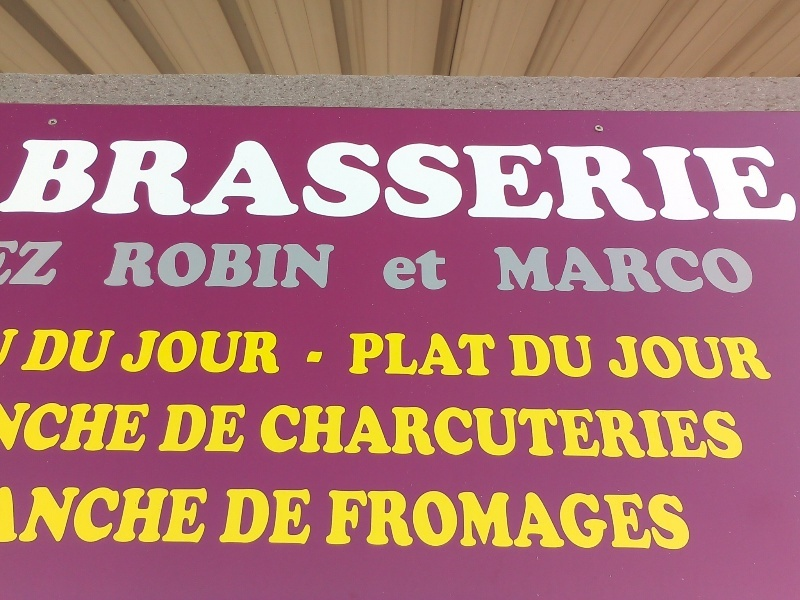text: (33, 137, 48, 226), (49, 137, 64, 226), (65, 137, 80, 226), (81, 137, 96, 226), (97, 137, 112, 226), (113, 137, 128, 226), (129, 137, 144, 226), (145, 137, 160, 226), (161, 137, 176, 226), (177, 137, 192, 226), (193, 137, 208, 226), (209, 137, 224, 226), (225, 137, 240, 226), (241, 137, 256, 226), (257, 137, 272, 226), (273, 137, 288, 226), (289, 137, 304, 226), (305, 137, 320, 226), (321, 137, 336, 226), (337, 137, 352, 226), (353, 137, 368, 226), (369, 137, 384, 226), (385, 137, 400, 226), (401, 137, 416, 226), (417, 137, 432, 226), (433, 137, 448, 226), (449, 137, 464, 226), (465, 137, 480, 226), (481, 137, 496, 226), (497, 137, 512, 226), (513, 137, 528, 226), (529, 137, 544, 226), (545, 137, 560, 226), (561, 137, 576, 226), (577, 137, 592, 226), (593, 137, 608, 226), (609, 137, 624, 226), (625, 137, 640, 226), (641, 137, 656, 226), (657, 137, 672, 226), (673, 137, 688, 226), (689, 137, 704, 226), (705, 137, 720, 226), (721, 137, 736, 226), (737, 137, 752, 226), (753, 137, 768, 226), (769, 137, 784, 226), (785, 137, 800, 226), (337, 484, 352, 552), (353, 484, 368, 552), (369, 484, 384, 552), (385, 484, 400, 552), (401, 484, 416, 552), (417, 484, 432, 552), (433, 484, 448, 552), (449, 484, 464, 552), (465, 484, 480, 552), (481, 484, 496, 552), (497, 484, 512, 552), (513, 484, 528, 552), (529, 484, 544, 552), (545, 484, 560, 552), (561, 484, 576, 552), (577, 484, 592, 552), (593, 484, 608, 552), (609, 484, 624, 552), (625, 484, 640, 552), (641, 484, 656, 552), (657, 484, 672, 552), (673, 484, 688, 552), (17, 485, 32, 548), (33, 485, 48, 548), (49, 485, 64, 548), (65, 485, 80, 548), (81, 485, 96, 548), (97, 485, 112, 548), (113, 485, 128, 548), (129, 485, 144, 548), (145, 485, 160, 548), (161, 485, 176, 548), (177, 485, 192, 548), (193, 485, 208, 548), (273, 402, 288, 461), (289, 402, 304, 461), (305, 402, 320, 461), (321, 402, 336, 461), (337, 402, 352, 461), (353, 402, 368, 461), (369, 402, 384, 461), (385, 402, 400, 461), (401, 402, 416, 461), (417, 402, 432, 461), (433, 402, 448, 461), (449, 402, 464, 461), (465, 402, 480, 461), (481, 402, 496, 461), (497, 402, 512, 461), (513, 402, 528, 461), (529, 402, 544, 461), (545, 402, 560, 461), (561, 402, 576, 461), (577, 402, 592, 461), (593, 402, 608, 461), (609, 402, 624, 461), (625, 402, 640, 461), (641, 402, 656, 461), (657, 402, 672, 461), (673, 402, 688, 461), (689, 402, 704, 461), (705, 402, 720, 461), (721, 402, 736, 461), (225, 486, 240, 545), (241, 486, 256, 545), (257, 486, 272, 545), (273, 486, 288, 545), (289, 486, 304, 545), (2, 485, 16, 548), (177, 400, 192, 456), (193, 400, 208, 456), (209, 400, 224, 456), (225, 400, 240, 456), (17, 399, 32, 454), (33, 399, 48, 454), (49, 399, 64, 454), (65, 399, 80, 454), (81, 399, 96, 454), (97, 399, 112, 454), (113, 399, 128, 454), (129, 399, 144, 454), (129, 238, 144, 292), (145, 238, 160, 292), (161, 238, 176, 292), (177, 238, 192, 292), (193, 238, 208, 292), (209, 238, 224, 292), (225, 238, 240, 292), (241, 238, 256, 292), (257, 238, 272, 292), (273, 238, 288, 292), (289, 238, 304, 292), (305, 238, 320, 292), (321, 238, 336, 292), (23, 137, 32, 226), (481, 331, 497, 381), (609, 333, 624, 384), (625, 333, 640, 384), (641, 333, 656, 384), (657, 333, 672, 384), (673, 333, 688, 384), (689, 333, 704, 384), (705, 333, 720, 384), (721, 333, 736, 384), (737, 333, 752, 384), (753, 333, 768, 384), (497, 245, 512, 296), (513, 245, 528, 296), (529, 245, 544, 296), (545, 245, 560, 296), (561, 245, 576, 296), (577, 245, 592, 296), (593, 245, 608, 296), (609, 245, 624, 296), (625, 245, 640, 296), (641, 245, 656, 296), (657, 245, 672, 296), (673, 245, 688, 296), (689, 245, 704, 296), (705, 245, 720, 296), (721, 245, 736, 296), (737, 245, 752, 296), (129, 326, 144, 377), (145, 326, 160, 377), (161, 326, 176, 377), (177, 326, 192, 377), (193, 326, 208, 377), (209, 326, 224, 377), (225, 326, 240, 377), (241, 326, 256, 377), (257, 326, 272, 377), (114, 238, 128, 292), (353, 331, 368, 381), (369, 331, 384, 381), (385, 331, 400, 381), (401, 331, 416, 381), (417, 331, 432, 381), (433, 331, 448, 381), (449, 331, 464, 381), (465, 331, 480, 381), (513, 332, 528, 381), (529, 332, 544, 381), (545, 332, 560, 381), (561, 332, 576, 381), (577, 332, 592, 381), (49, 328, 64, 376), (65, 328, 80, 376), (81, 328, 96, 376), (97, 328, 112, 376), (1, 240, 16, 288), (17, 240, 32, 288), (33, 240, 48, 288), (49, 240, 64, 288), (260, 402, 272, 461), (385, 247, 400, 293), (401, 247, 416, 293), (417, 247, 432, 293), (433, 247, 448, 293), (2, 324, 16, 373), (4, 399, 16, 454), (737, 402, 748, 461), (305, 486, 316, 545), (35, 328, 48, 376), (167, 400, 176, 456), (17, 324, 27, 373), (329, 484, 336, 552), (273, 326, 282, 377), (488, 245, 496, 296), (241, 400, 248, 456), (145, 399, 152, 454), (769, 333, 776, 384), (305, 346, 320, 368), (753, 245, 759, 296), (506, 332, 512, 381), (689, 484, 693, 552), (113, 328, 118, 376), (321, 346, 331, 368), (604, 333, 608, 384), (209, 485, 212, 548), (449, 247, 453, 293), (349, 331, 352, 381), (65, 240, 68, 288), (337, 238, 339, 292), (593, 332, 595, 381), (127, 326, 128, 377), (383, 247, 384, 293), (302, 346, 304, 368)
